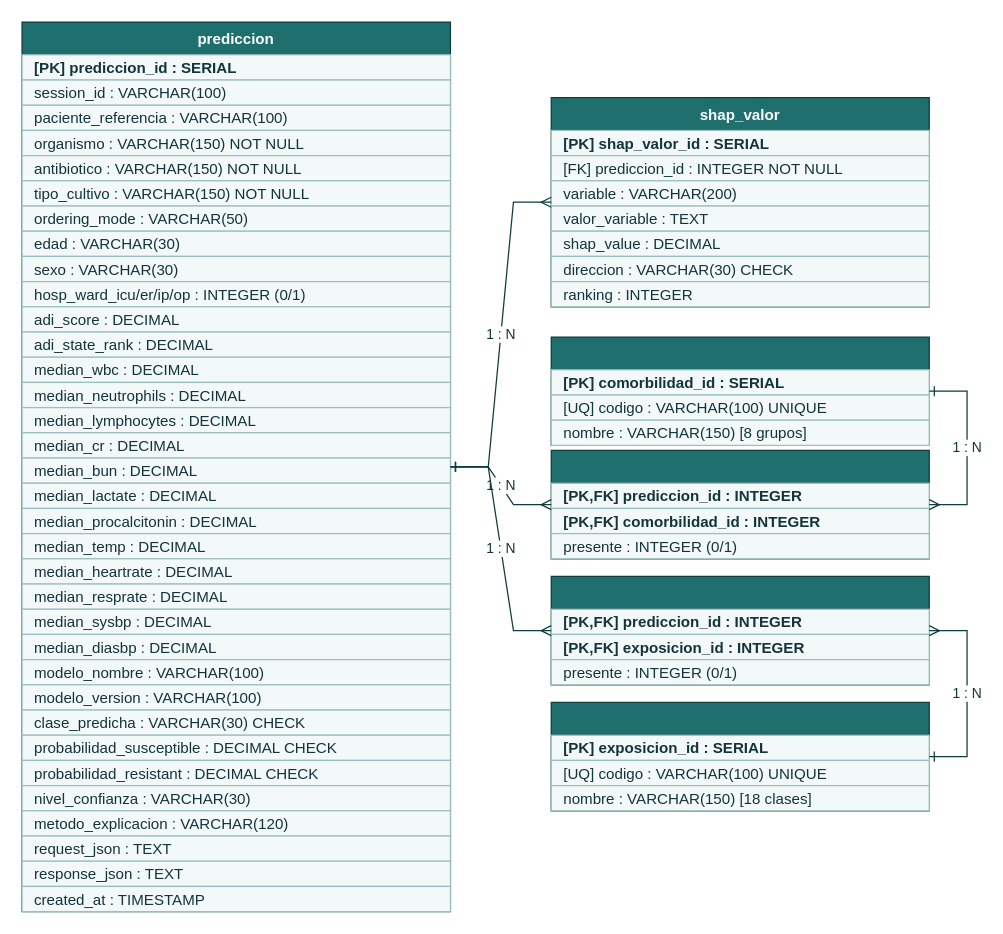
Some shapes in this 1003 by 934 pixel diagram are drawn without their labels. The shapes that lost their labels are listed below. From the top down, each one's box as (x1, y1, x2, y2) in pixels, then its label:
(550, 336, 929, 445): comorbilidad_catalogo
(550, 449, 929, 559): prediccion_comorbilidad
(550, 575, 929, 685): prediccion_exposicion_antibiotica
(550, 701, 929, 811): exposicion_antibiotica_catalogo
